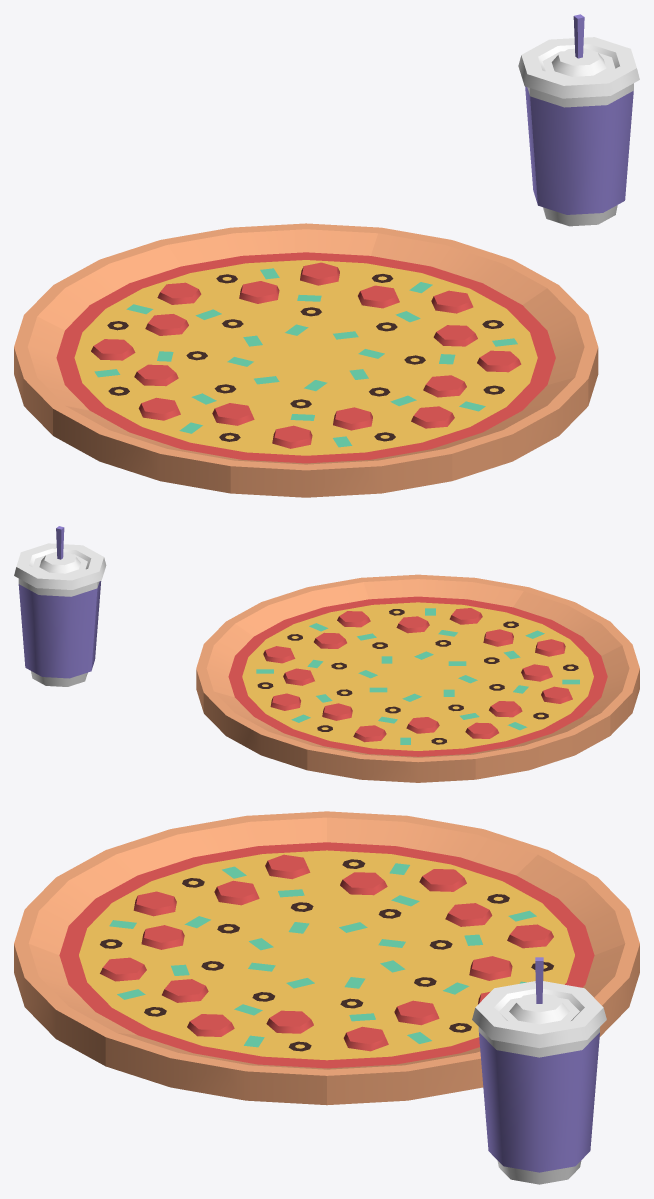
Rendered from pizza-refri.glb.
The picture shows the model from 3 angles, top to bottom: view 1: azimuth 30°, elevation 25°; view 2: azimuth 150°, elevation 25°; view 3: azimuth 270°, elevation 25°; orthographic projection. The views are drawn at different scales.
Parts seen in each view (by area): view 1: soda, slice3, slice4, slice2, slice7, slice8, slice6, slice5, slice1; view 2: soda, slice6, slice5, slice7, slice2, slice1, slice3, slice4, slice8; view 3: soda, slice1, slice4, slice5, slice2, slice3, slice6, slice8, slice7.
Part boxes in pixels (x1,y1,x2,y2): soda: (518,14,639,226); slice3: (230,358,452,497); slice4: (53,358,305,493); slice2: (307,358,588,480); slice7: (160,223,381,357); slice8: (306,227,558,357); slice6: (24,240,305,357); slice5: (14,315,305,435); slice1: (306,285,598,405); soda: (14,526,106,686); slice6: (307,677,475,782); slice5: (418,677,610,779); slice7: (203,676,417,770); slice2: (361,574,528,676); slice1: (226,578,417,676); slice3: (418,587,631,676); slice4: (419,644,639,735); slice8: (196,621,416,711); soda: (472,957,606,1184); slice1: (105,955,326,1105); slice4: (106,811,326,954); slice5: (327,811,547,954); slice2: (14,943,326,1066); slice3: (14,850,326,955); slice6: (327,850,639,955); slice8: (327,955,483,1105); slice7: (327,943,639,1036).
Size of the model in its own units: 0.4749 by 0.1297 by 0.3536.
